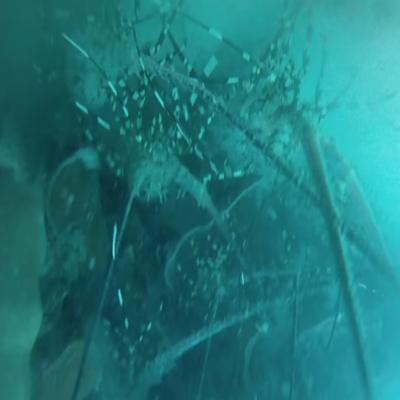lobster: (119, 114, 188, 210)
